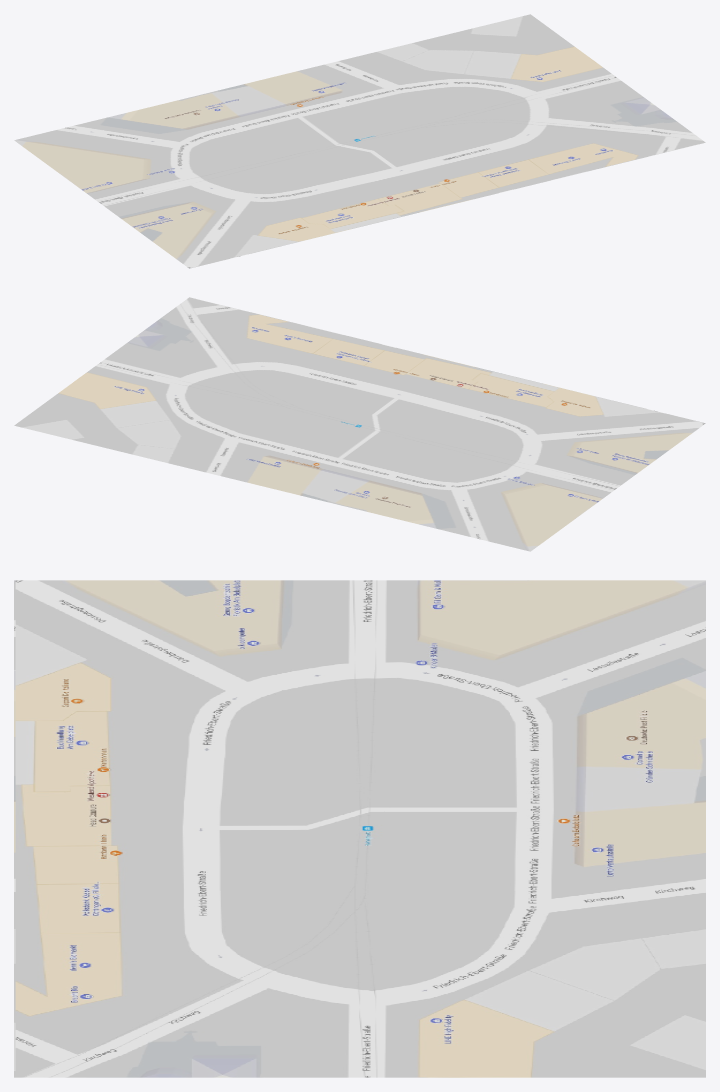
Rendered from Grundflaeche_Bebelplatz.FBX.
3 renders of one model, top to bottom at view 1: azimuth 30°, elevation 25°; view 2: azimuth 150°, elevation 25°; view 3: azimuth 270°, elevation 25°, orthographic. The views are drawn at different scales.
Visible parts, largest first — view 1: Grundflaeche_Bebelplatz; view 2: Grundflaeche_Bebelplatz; view 3: Grundflaeche_Bebelplatz.
Part boxes in pixels (left/top/right/bottom): Grundflaeche_Bebelplatz: left=14, top=14, right=705, bottom=268; Grundflaeche_Bebelplatz: left=14, top=297, right=705, bottom=551; Grundflaeche_Bebelplatz: left=14, top=580, right=705, bottom=1077.
Bounding box in the file's own units: 170 × 6.12e-15 × 100.
1 material, 1 textured.
